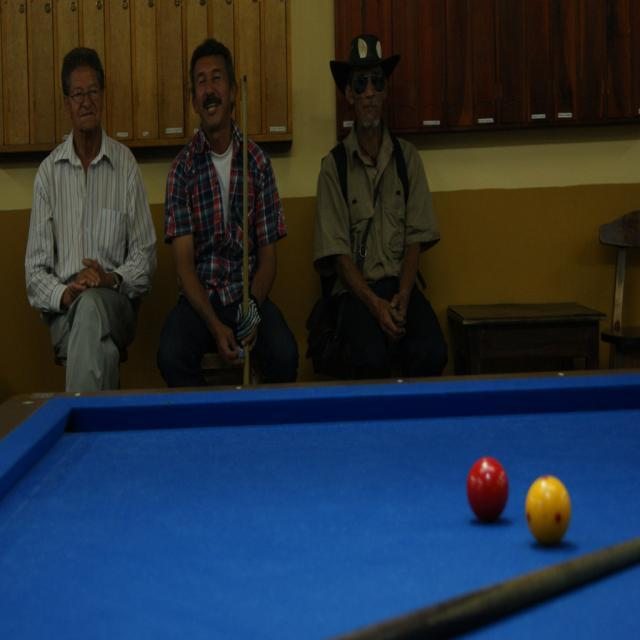Ball: (524, 474, 570, 544), (467, 457, 508, 520)
Billiard table: (0, 368, 640, 640)
